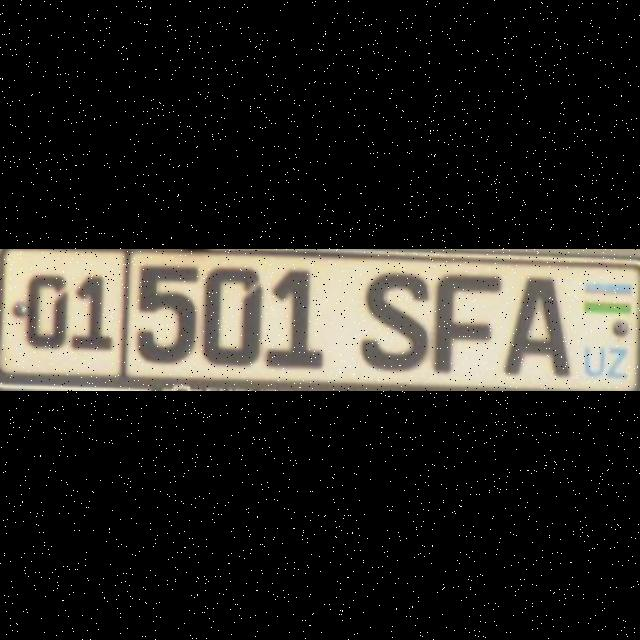0: (200, 266, 260, 362), (26, 273, 66, 345)
1: (264, 268, 322, 368), (70, 273, 110, 349)
5: (136, 265, 196, 363)
A: (504, 275, 568, 375)
F: (432, 275, 498, 371)
S: (362, 273, 426, 371)
